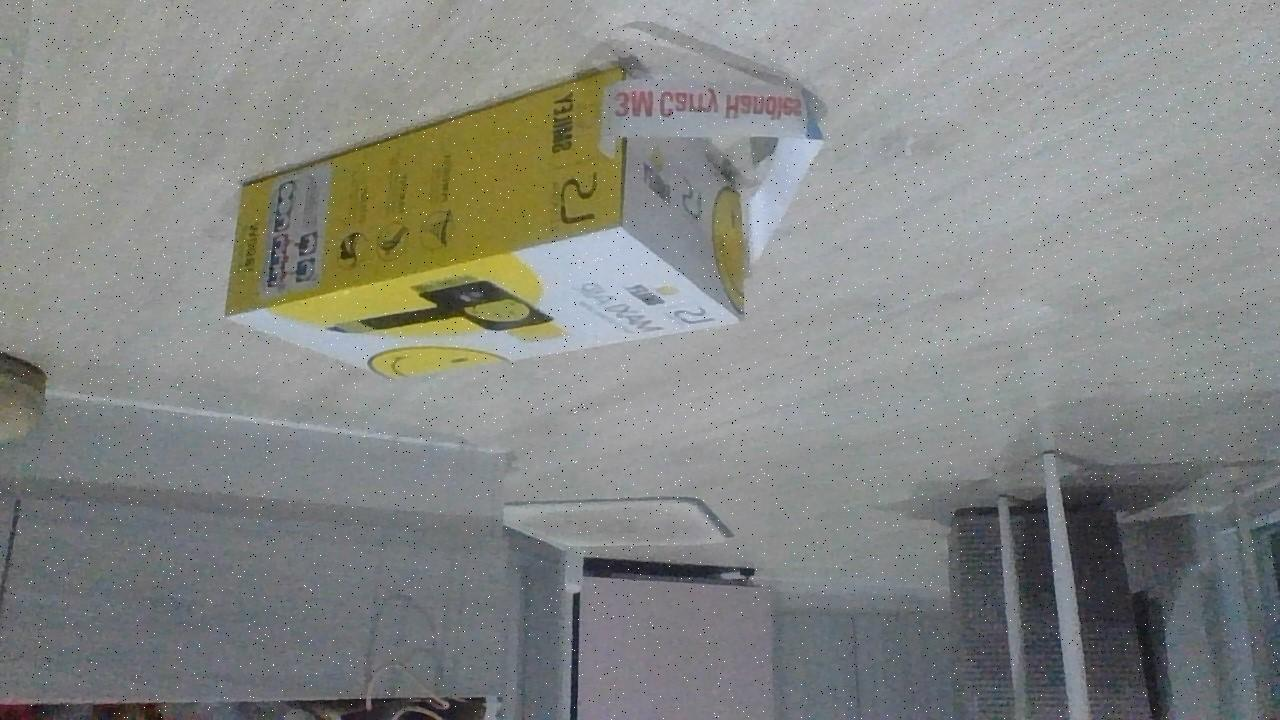Dryer: (220, 61, 823, 389)
